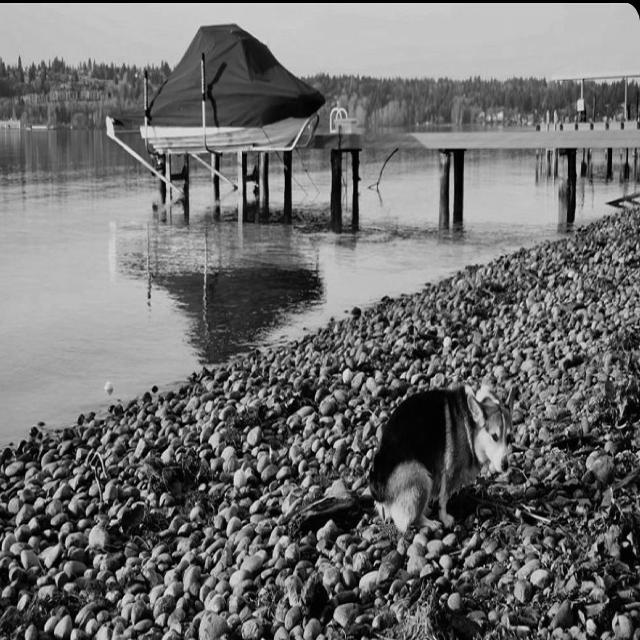squatting: (364, 372, 521, 540)
